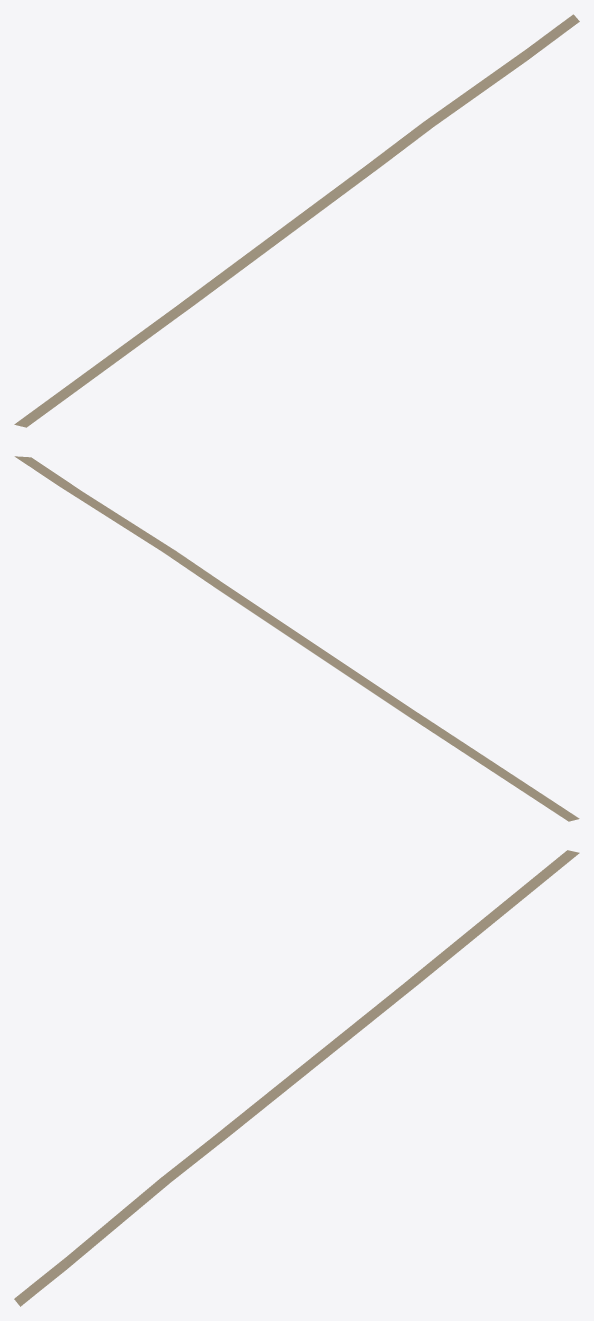
Rendered from farm_10_5_track.glb.
3 renders of one model, top to bottom at view 1: azimuth 90°, elevation 25°; view 2: azimuth 150°, elevation 25°; view 3: azimuth 270°, elevation 25°, orthographic. The views are drawn at different scales.
Parts seen in each view (by area): view 1: geometry_0; view 2: geometry_0; view 3: geometry_0.
Part boxes in pixels (x1,y1,x2,y2): geometry_0: [14, 14, 579, 427]; geometry_0: [14, 456, 579, 821]; geometry_0: [14, 850, 579, 1306].
Bounding box in the file's own units: 236 × 5.51 × 130.
